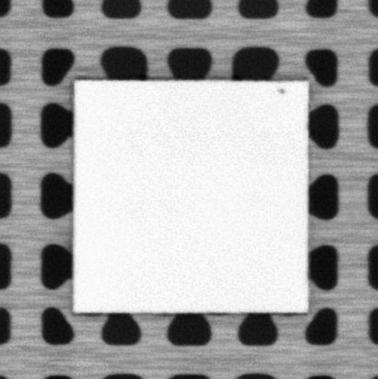DIE_INK: (276, 85, 285, 95)
